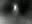person: (13, 5, 21, 17)
